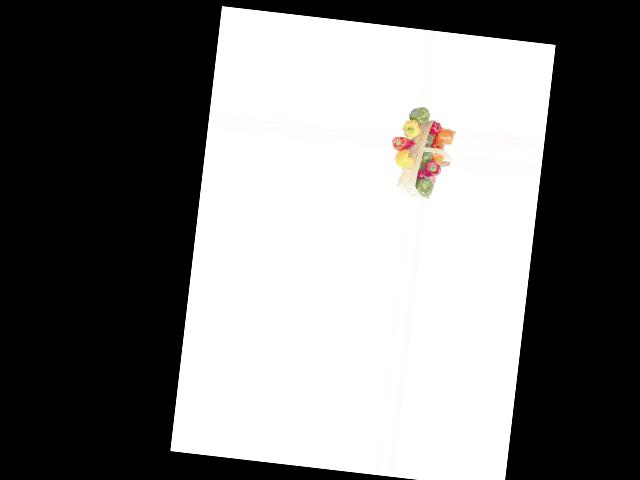bell_pepper: (416, 175, 434, 197)
